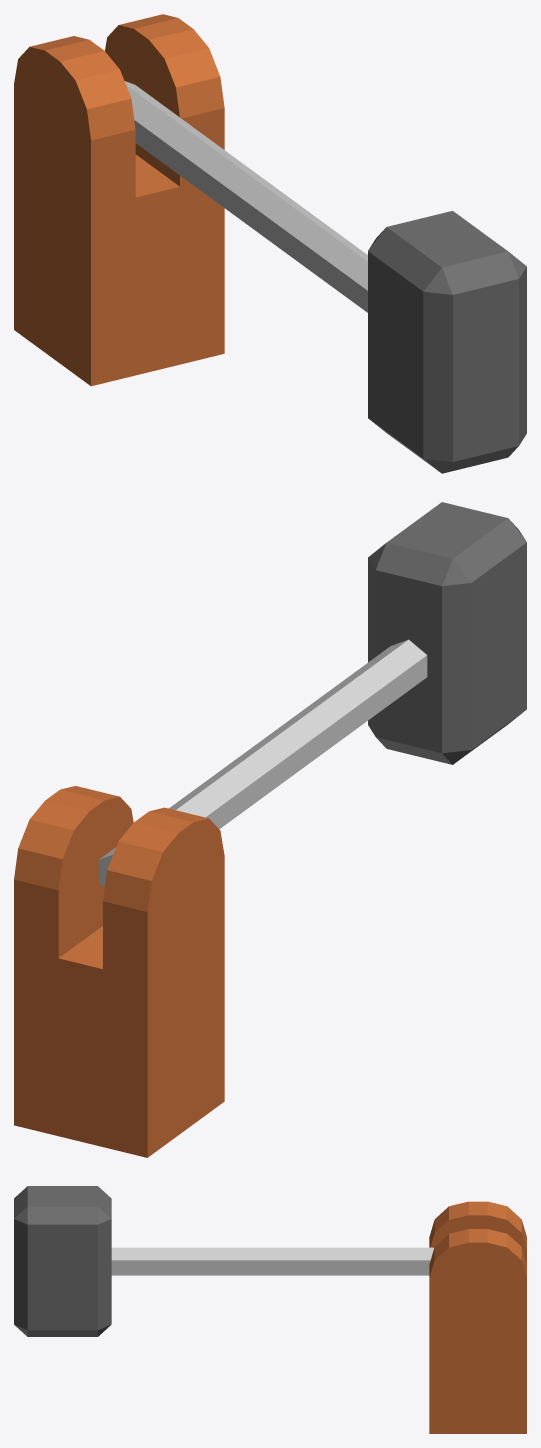
Rendered from Hammer_trap.fbx.
The picture shows the model from 3 angles, top to bottom: view 1: azimuth 30°, elevation 25°; view 2: azimuth 150°, elevation 25°; view 3: azimuth 270°, elevation 25°; orthographic projection. The views are drawn at different scales.
Parts seen in each view (by area): view 1: Cube, Cube.001; view 2: Cube, Cube.001; view 3: Cube.001, Cube.
Boxes of the visible parts, x1=… form: Cube: x1=14, y1=14, x2=224, y2=386; Cube.001: x1=124, y1=81, x2=526, y2=473; Cube: x1=14, y1=786, x2=224, y2=1157; Cube.001: x1=98, y1=502, x2=526, y2=886; Cube.001: x1=14, y1=1186, x2=433, y2=1336; Cube: x1=429, y1=1201, x2=526, y2=1433.
Size of the model in its own units: 20 by 49.08 by 105.
